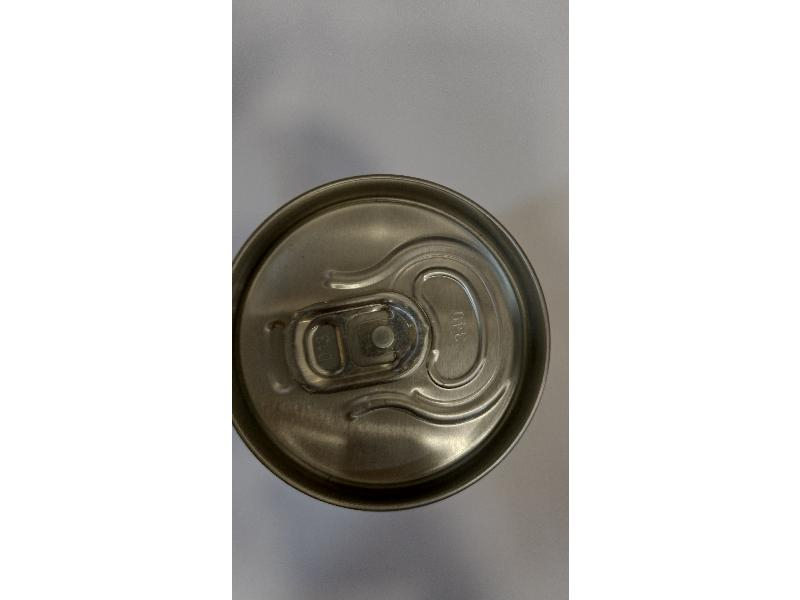can: (238, 180, 547, 512)
